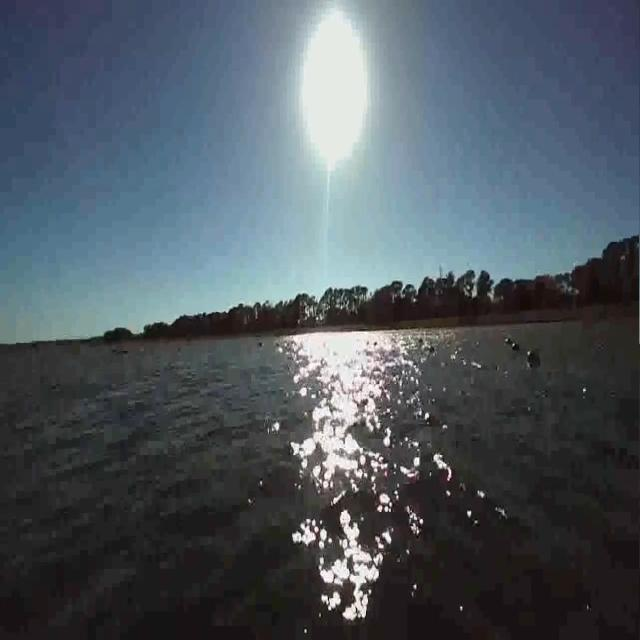yellow-buoy: (71, 341, 81, 357)
